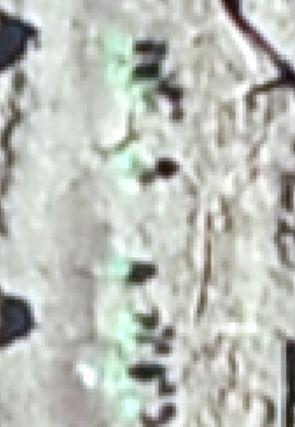cotton: (106, 33, 135, 57), (104, 362, 128, 386), (120, 313, 139, 342), (118, 405, 141, 427), (111, 65, 132, 88), (121, 156, 143, 177), (127, 83, 148, 103), (113, 260, 130, 281)
